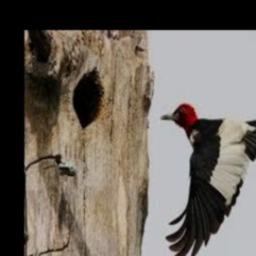Woodpecker: (161, 104, 256, 256)
